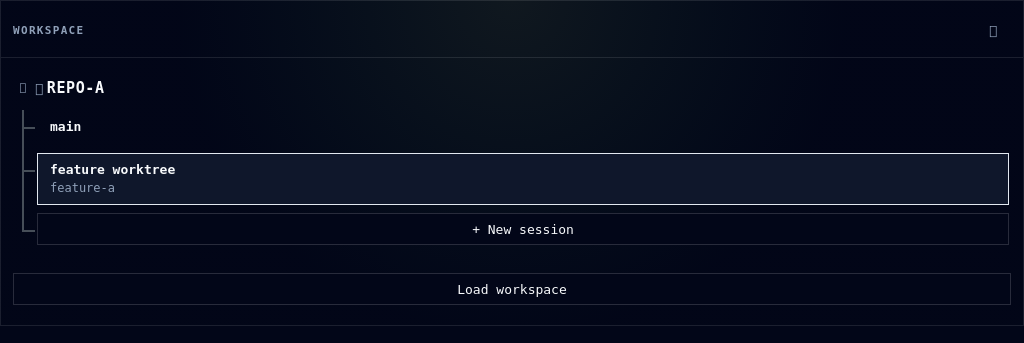
it: SessionSidebar rename › context menu rename item exists on a non-main row and not Remove worktree alongside it
This screenshot has width=1024, height=343.
Step 1. Right-click the button "feature worktree feature-a" → [113, 169], box [38, 154, 1008, 204]
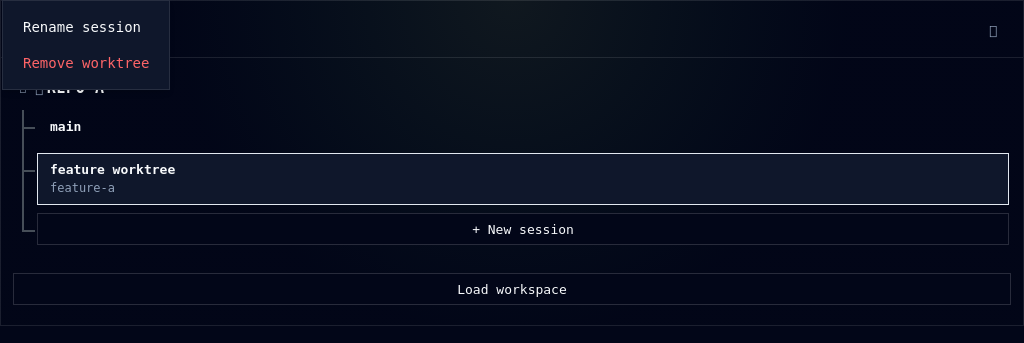
Now the menu item "Rename session" is shown, box [23, 19, 141, 35]
Now the menu item "Remove worktree" is shown, box [23, 55, 149, 71]
